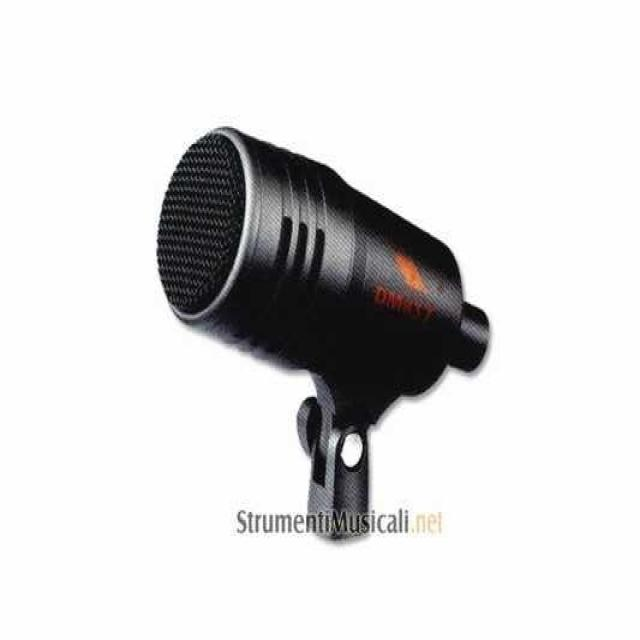microphone: (155, 125, 488, 538)
